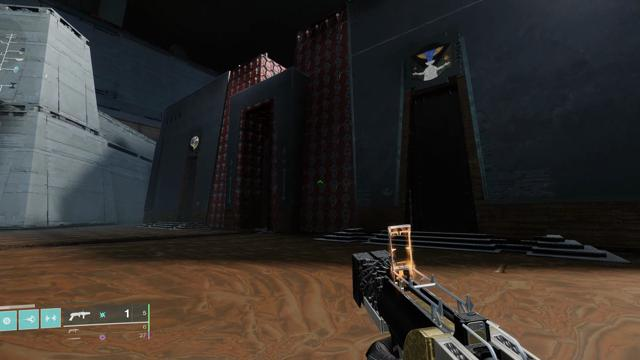brain: (188, 134, 201, 151)
drink: (410, 41, 453, 82)
